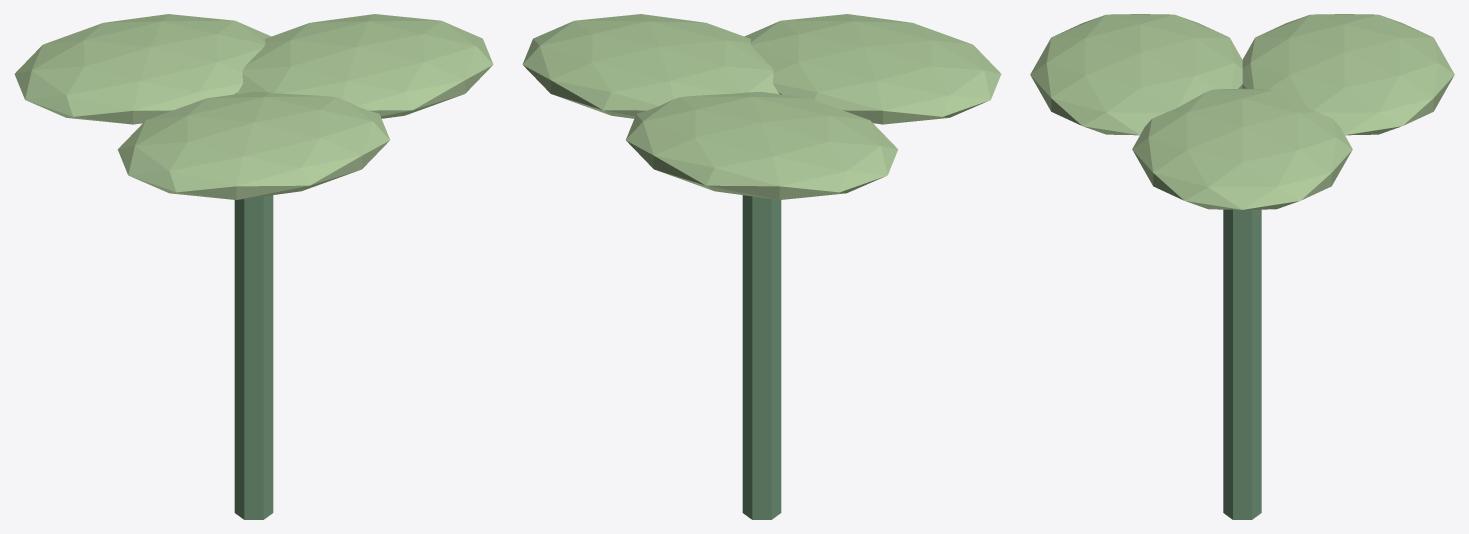
File: clover_tall.glb
3 renders of one model, left to right at view 1: azimuth 30°, elevation 25°; view 2: azimuth 150°, elevation 25°; view 3: azimuth 270°, elevation 25°, orthographic.
Parts seen in each view (by area): view 1: Leaf_1, Leaf_2, Leaf_0, Stem; view 2: Leaf_2, Leaf_1, Leaf_0, Stem; view 3: Leaf_0, Leaf_1, Leaf_2, Stem.
Boxes of the visible parts, left/top/right/bottom form: Leaf_1: left=117, top=92, right=389, bottom=199; Leaf_2: left=14, top=14, right=271, bottom=124; Leaf_0: left=236, top=14, right=493, bottom=118; Stem: left=234, top=195, right=273, bottom=519; Leaf_2: left=626, top=92, right=898, bottom=199; Leaf_1: left=744, top=14, right=1001, bottom=124; Leaf_0: left=522, top=14, right=779, bottom=118; Stem: left=742, top=195, right=781, bottom=519; Leaf_0: left=1132, top=88, right=1352, bottom=209; Leaf_1: left=1030, top=14, right=1242, bottom=135; Leaf_2: left=1242, top=14, right=1454, bottom=135; Stem: left=1223, top=209, right=1261, bottom=519.
Size of the model in its own units: 0.63 by 0.653 by 0.5771.
